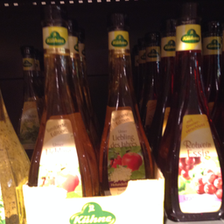vinegar: (164, 17, 224, 222), (31, 22, 98, 200), (101, 25, 156, 194)
